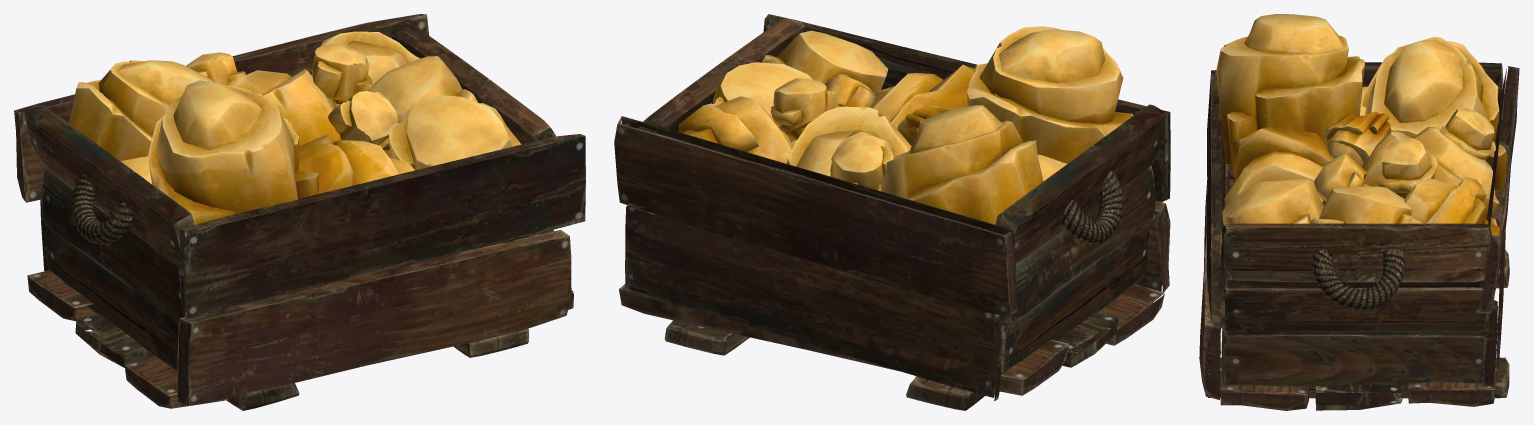
The picture shows the model from 3 angles, left to right: view 1: azimuth 30°, elevation 25°; view 2: azimuth 150°, elevation 25°; view 3: azimuth 270°, elevation 25°; orthographic projection. The views are drawn at different scales.
Visible parts, largest first — view 1: SM_Dec_Garou_Chest_Gold_Small_LOD0; view 2: SM_Dec_Garou_Chest_Gold_Small_LOD0; view 3: SM_Dec_Garou_Chest_Gold_Small_LOD0.
Part boxes in pixels (box(x1,y1,x2,y2)): SM_Dec_Garou_Chest_Gold_Small_LOD0: box(14, 14, 585, 410); SM_Dec_Garou_Chest_Gold_Small_LOD0: box(614, 14, 1170, 410); SM_Dec_Garou_Chest_Gold_Small_LOD0: box(1199, 14, 1519, 410).
Bounding box in the file's own units: 0.9929 × 0.6132 × 0.6922.
3 materials, 3 textured.
